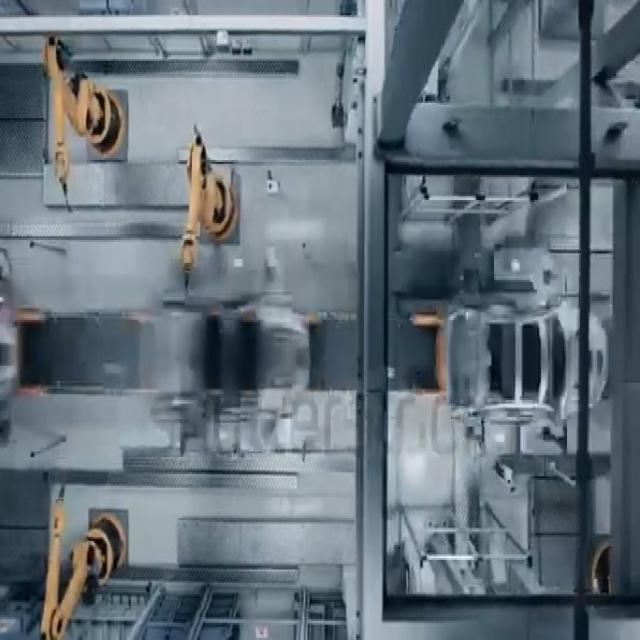auto: (140, 282, 320, 466), (438, 286, 614, 442)
robot: (41, 31, 142, 180), (37, 478, 138, 610), (177, 150, 250, 259)
